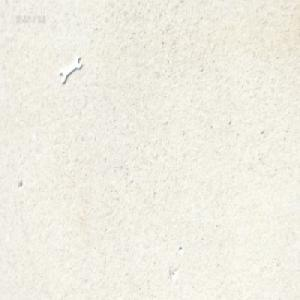Wrench: (59, 53, 82, 85)
